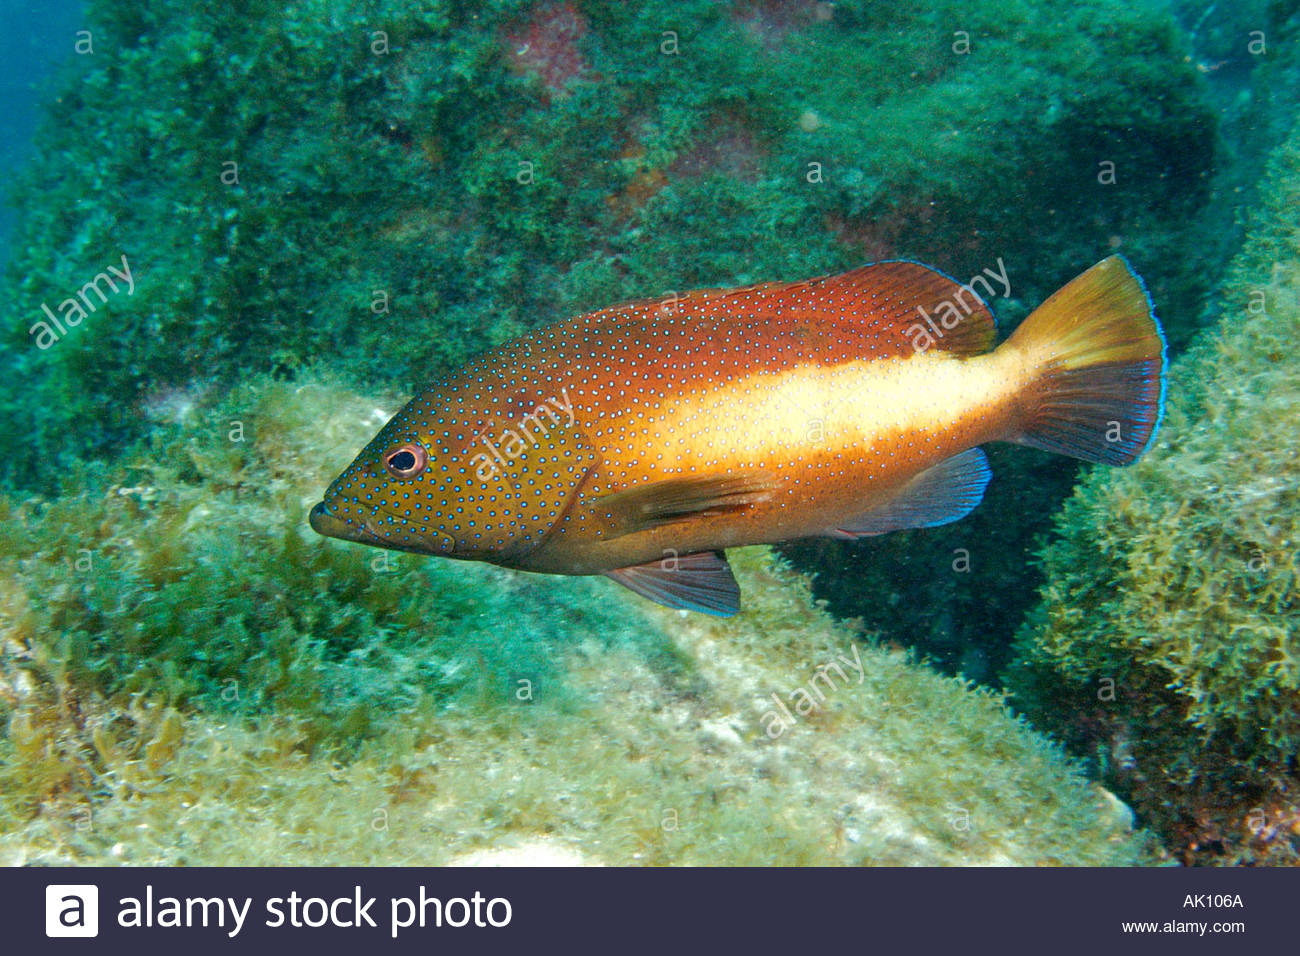Cephalopholis_fulvaw: (282, 227, 1185, 636)
